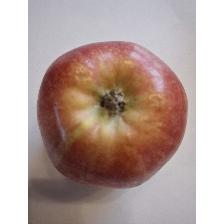Apfel: (35, 38, 191, 190)
